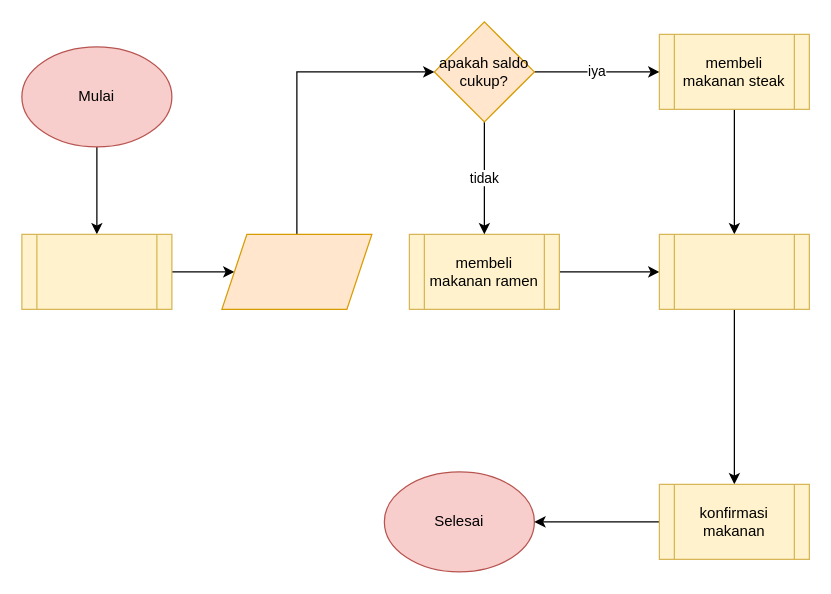
Image size: 831x594. Some labels were removed from this diagram. Each missing label, with the centre of its shape:
"memasukan nama dan alamat" goes at point (296, 271).
"Membuka aplikasi online food" goes at point (96, 271).
"memilih metode pembayaran" goes at point (733, 271).
